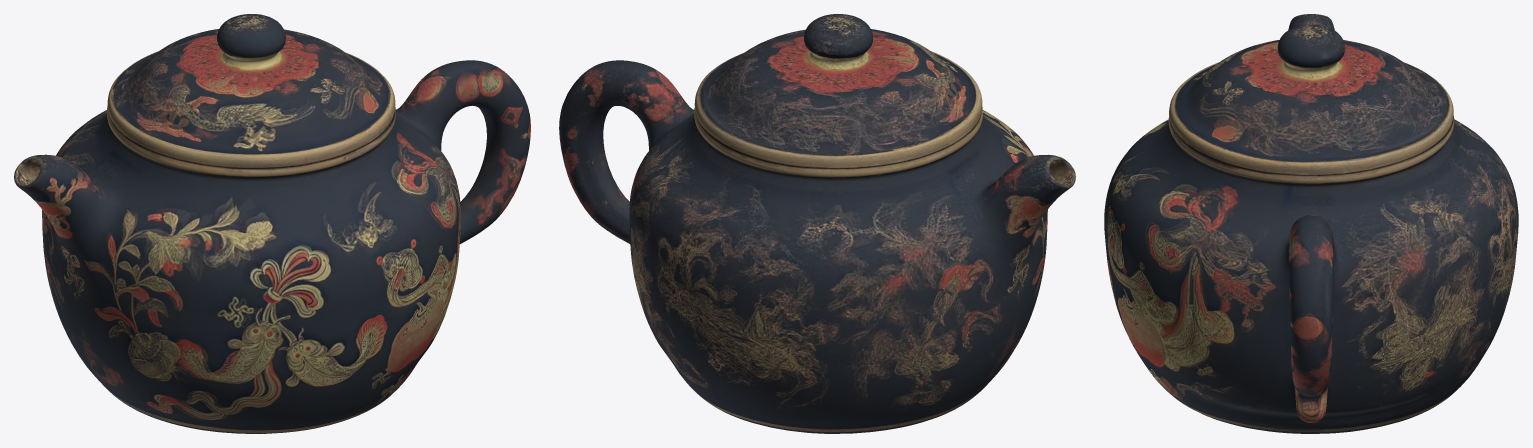
The model's file is 宜兴窑紫砂胎黑漆描金“吉庆有余”纹执壶.glb.
3 views of the same model, side by side, from view 1: azimuth 30°, elevation 25°; view 2: azimuth 150°, elevation 25°; view 3: azimuth 270°, elevation 25° (orthographic). The views are drawn at different scales.
Parts seen in each view (by area): view 1: tripo_node_12226a82; view 2: tripo_node_12226a82; view 3: tripo_node_12226a82.
Boxes of the visible parts, x1,y1,x2,y2 form: tripo_node_12226a82: [14, 14, 530, 433]; tripo_node_12226a82: [559, 14, 1075, 433]; tripo_node_12226a82: [1104, 14, 1518, 433].
Bounding box in the file's own units: 97.98 × 64.51 × 70.47.
1 material, 1 textured.
